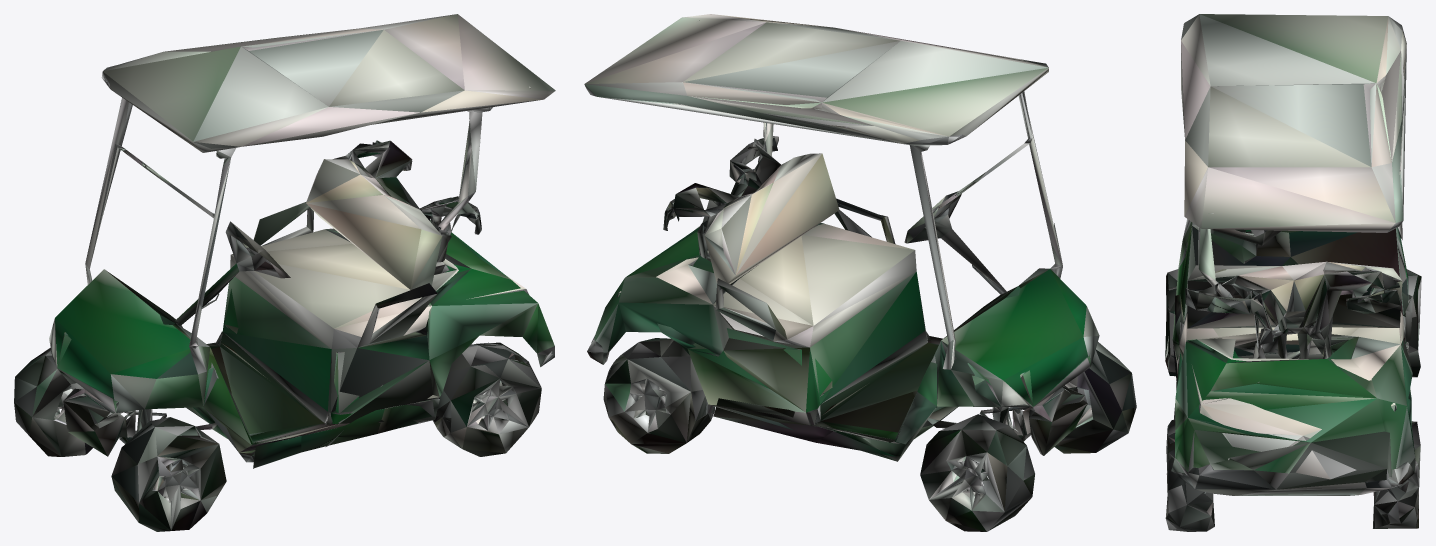
File: cart.glb
The picture shows the model from 3 angles, left to right: view 1: azimuth 30°, elevation 25°; view 2: azimuth 150°, elevation 25°; view 3: azimuth 270°, elevation 25°; orthographic projection.
Parts seen in each view (by area): view 1: LO.001; view 2: LO.001; view 3: LO.001.
Boxes of the visible parts, x1,y1,x2,y2 form: LO.001: [14, 14, 555, 531]; LO.001: [584, 14, 1136, 531]; LO.001: [1165, 14, 1421, 531].
Size of the model in its own units: 1.92 by 1.53 by 0.9507.
1 material, 1 textured.
